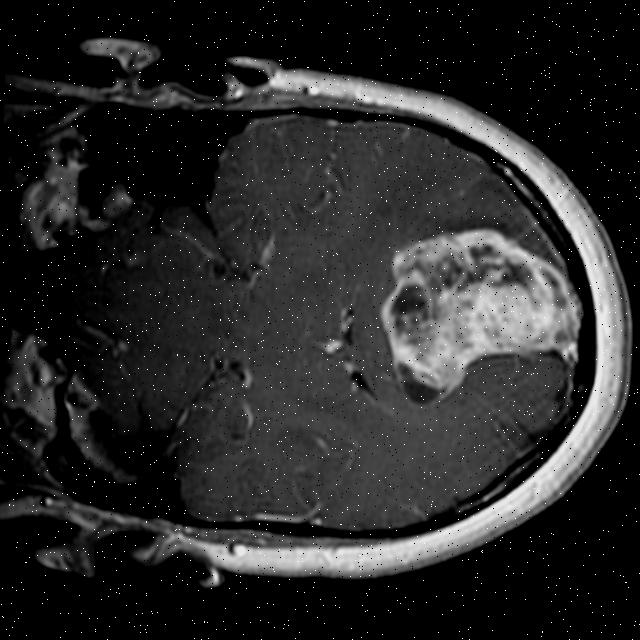Meningioma: (375, 219, 586, 420)
